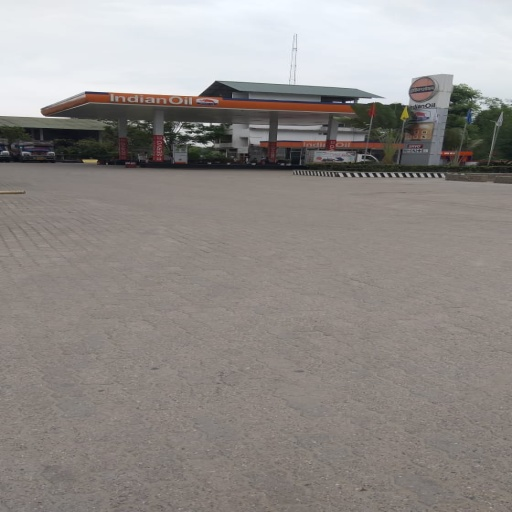roof: (40, 90, 356, 137)
